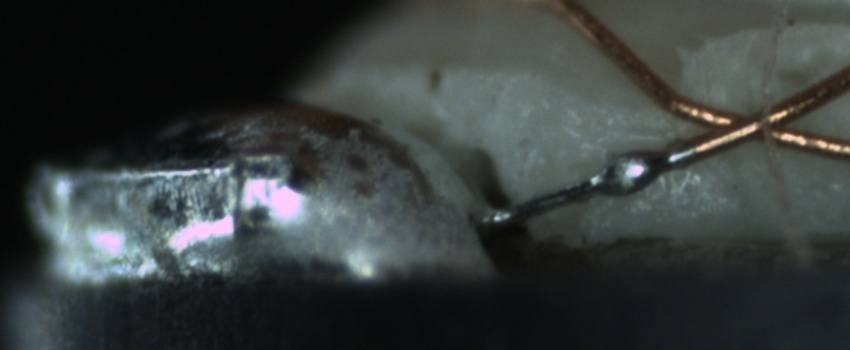CL: (667, 93, 823, 156)
DL: (588, 113, 695, 156)
TB: (595, 144, 667, 207)
TS: (480, 142, 699, 231)
TTCW: (491, 129, 734, 229)
